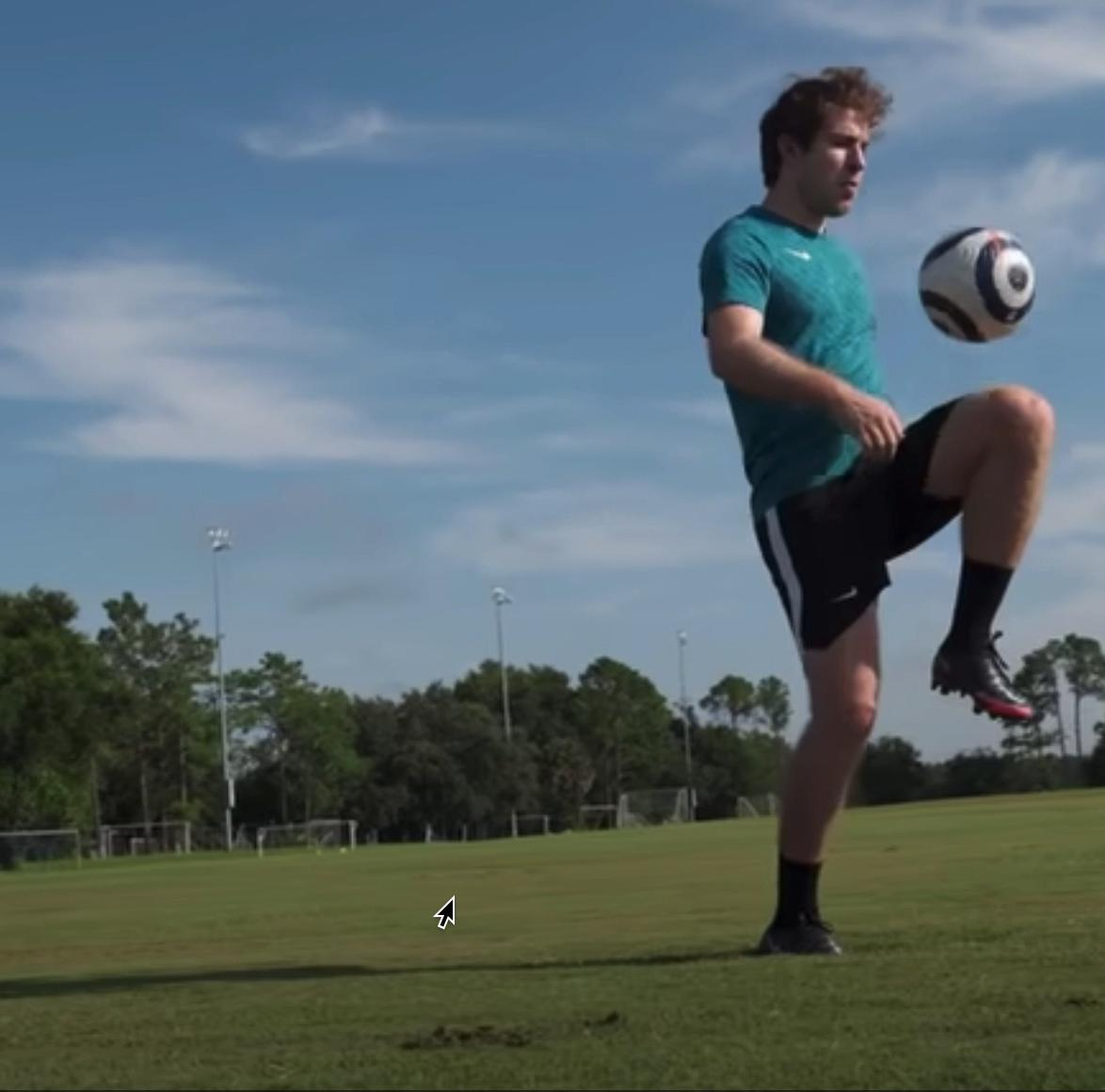ball: (918, 228, 1037, 344)
foot: (931, 631, 1038, 726), (756, 906, 850, 960)
person: (699, 62, 1052, 956)
